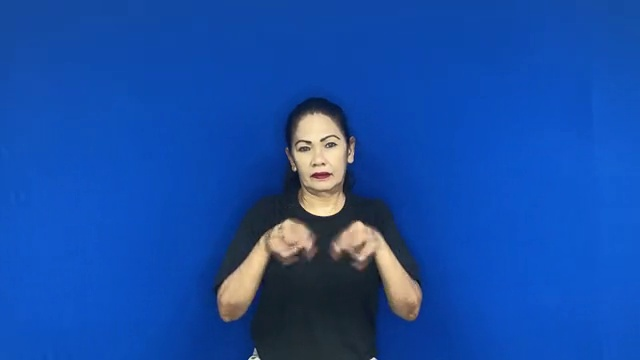egg: (255, 209, 390, 272)
